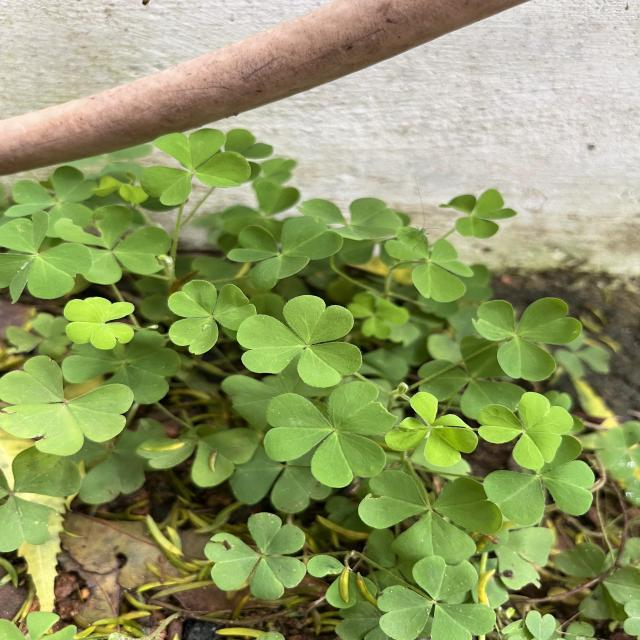Oxalis corniculata: (263, 380, 398, 489), (358, 469, 503, 565), (2, 354, 136, 457), (235, 293, 363, 389), (376, 554, 498, 640), (471, 296, 584, 382), (202, 511, 308, 601), (138, 127, 254, 207), (226, 216, 344, 292), (0, 209, 94, 304), (476, 392, 574, 469), (384, 391, 479, 467), (166, 278, 258, 356), (383, 226, 475, 304), (63, 296, 136, 350)
